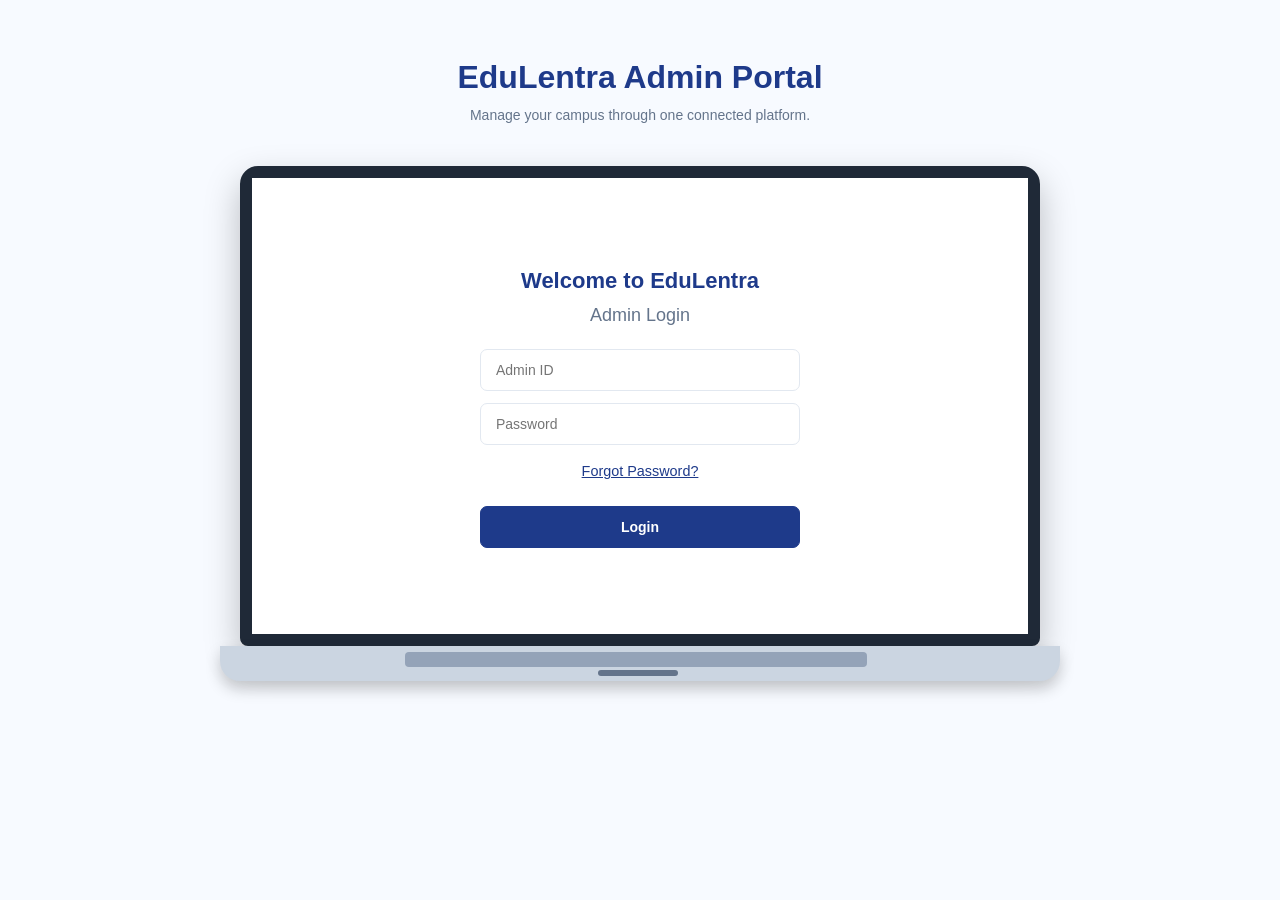
Test case: role-aware announcement flows › lets administrators find and filter students from branches outside the preset list
Type "campus-admin" into the field with placeholder "Admin ID" at [640, 370], box top-left (480, 349), bottom-right (800, 391)
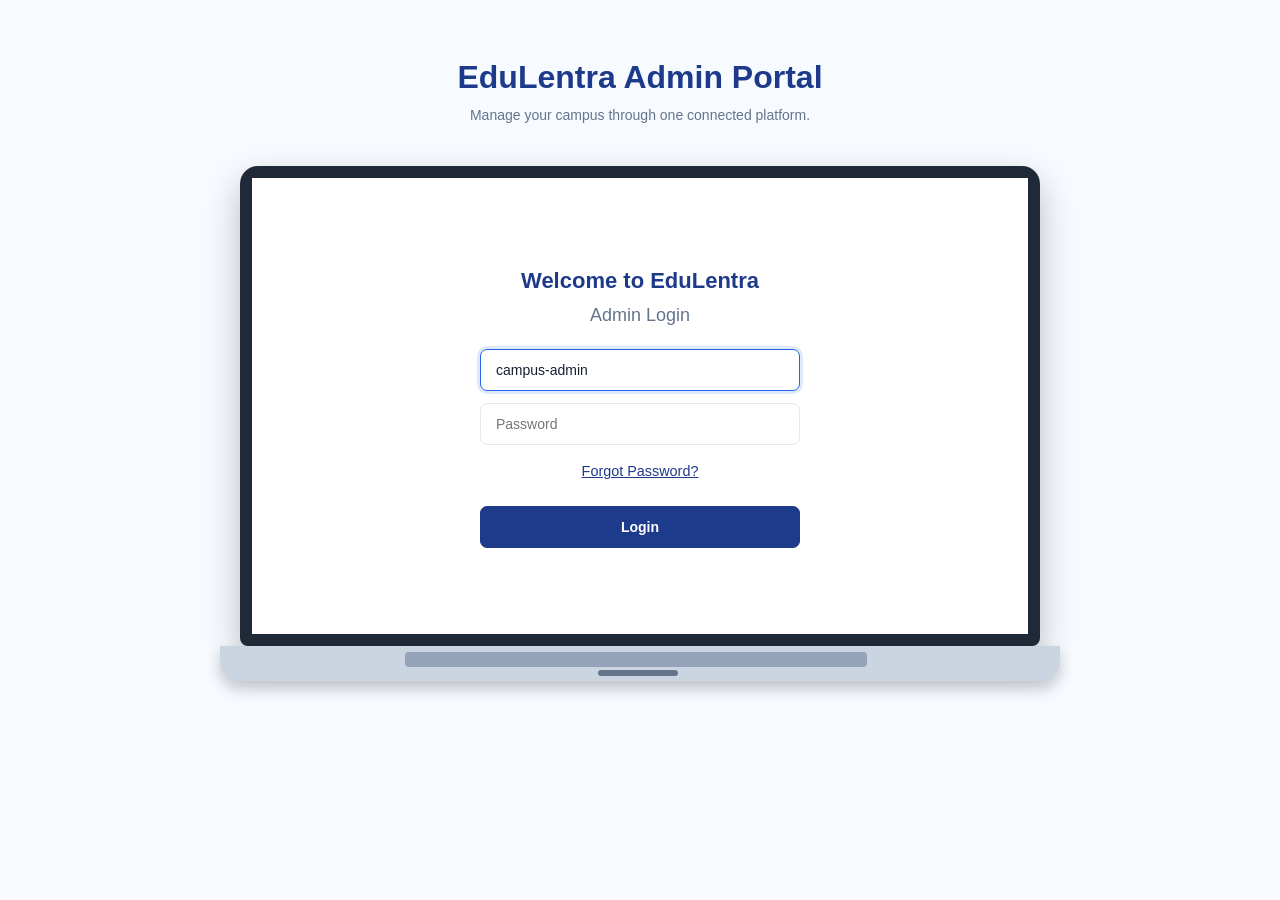
Type "correct-password" into the password field with placeholder "Password" at [640, 424], box top-left (480, 403), bottom-right (800, 445)
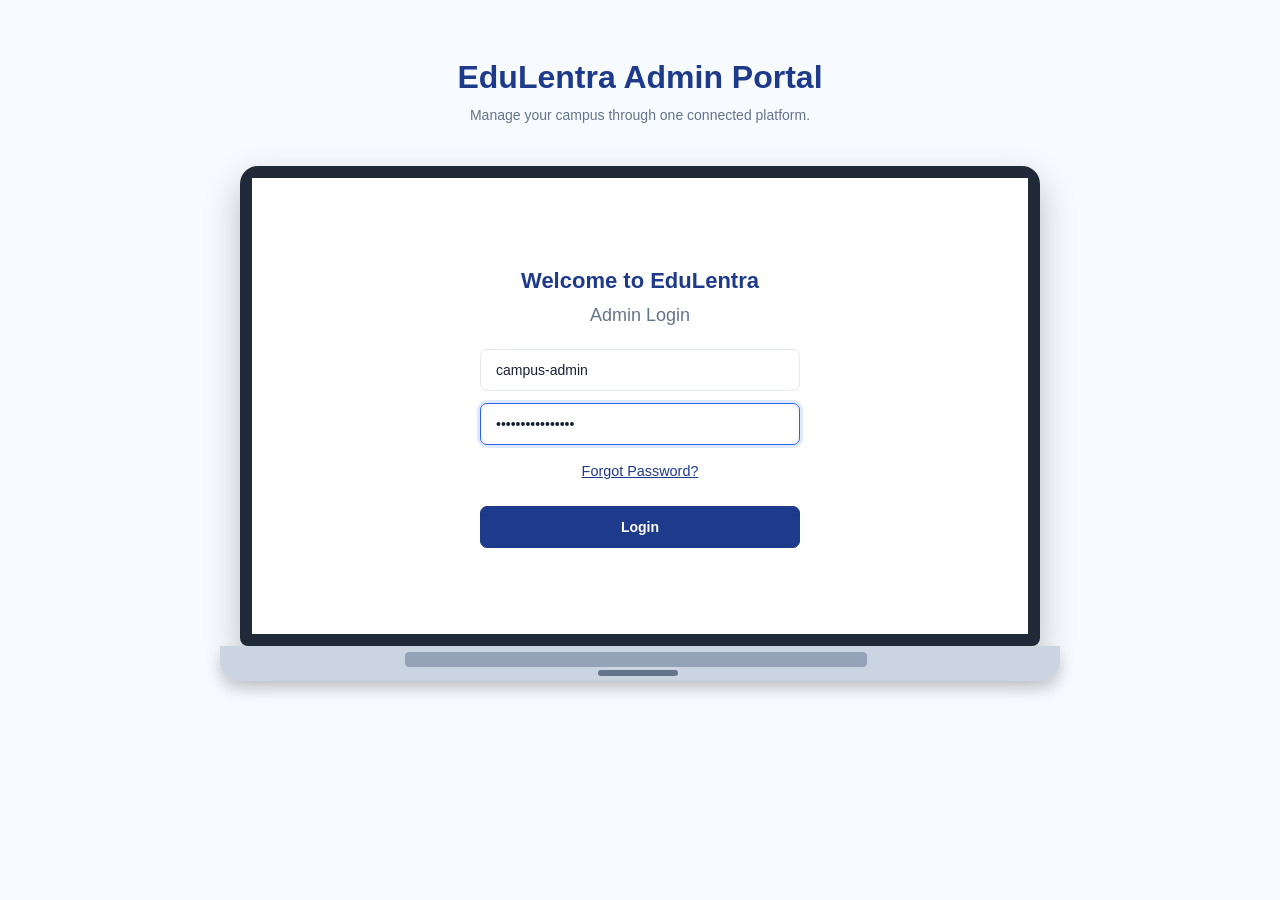
Click the button "Login" at [640, 528], box top-left (480, 506), bottom-right (800, 548)
(page scrolled)
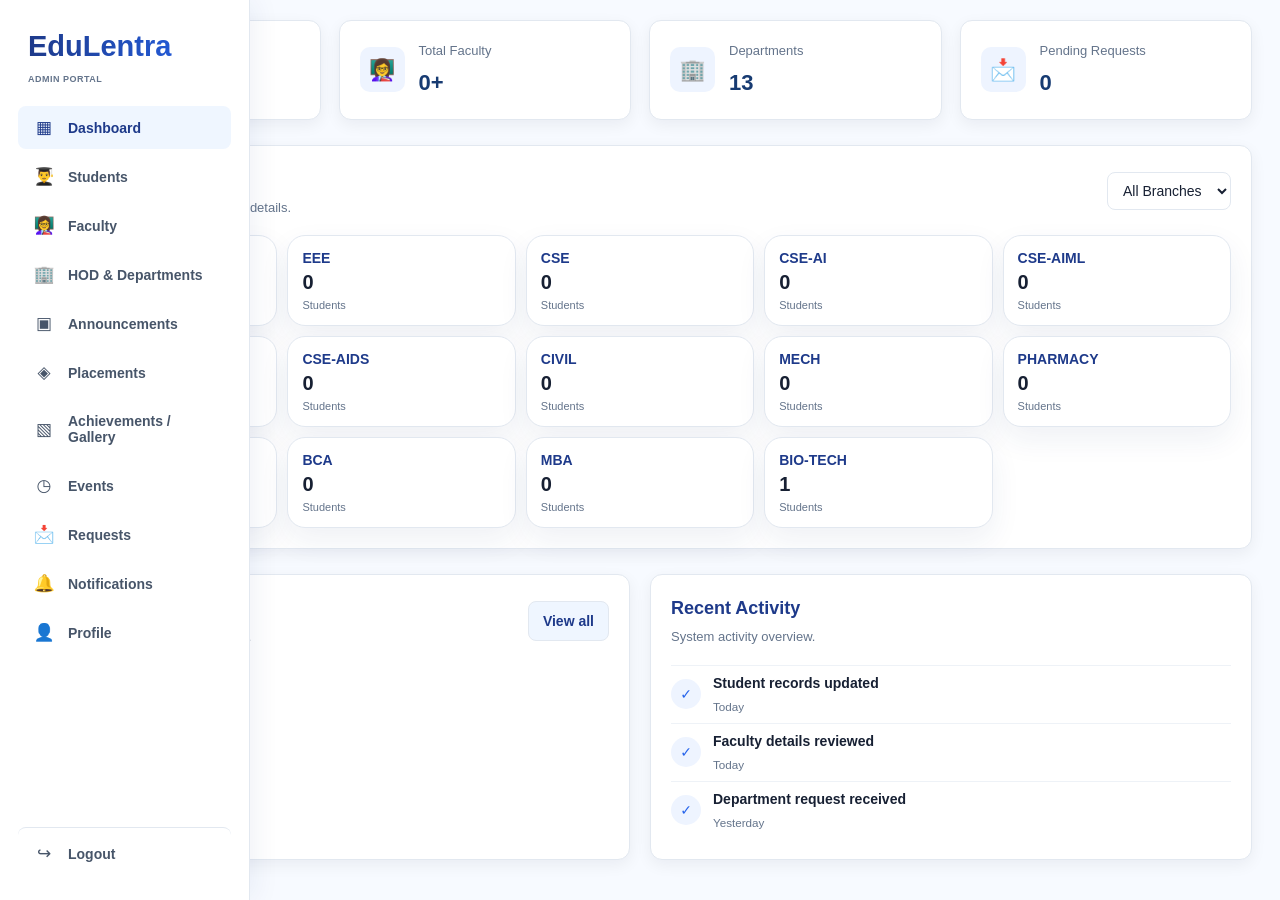
Click the button "BIO-TECH 1 Students" at [878, 482], box top-left (764, 437), bottom-right (993, 528)
(page scrolled)
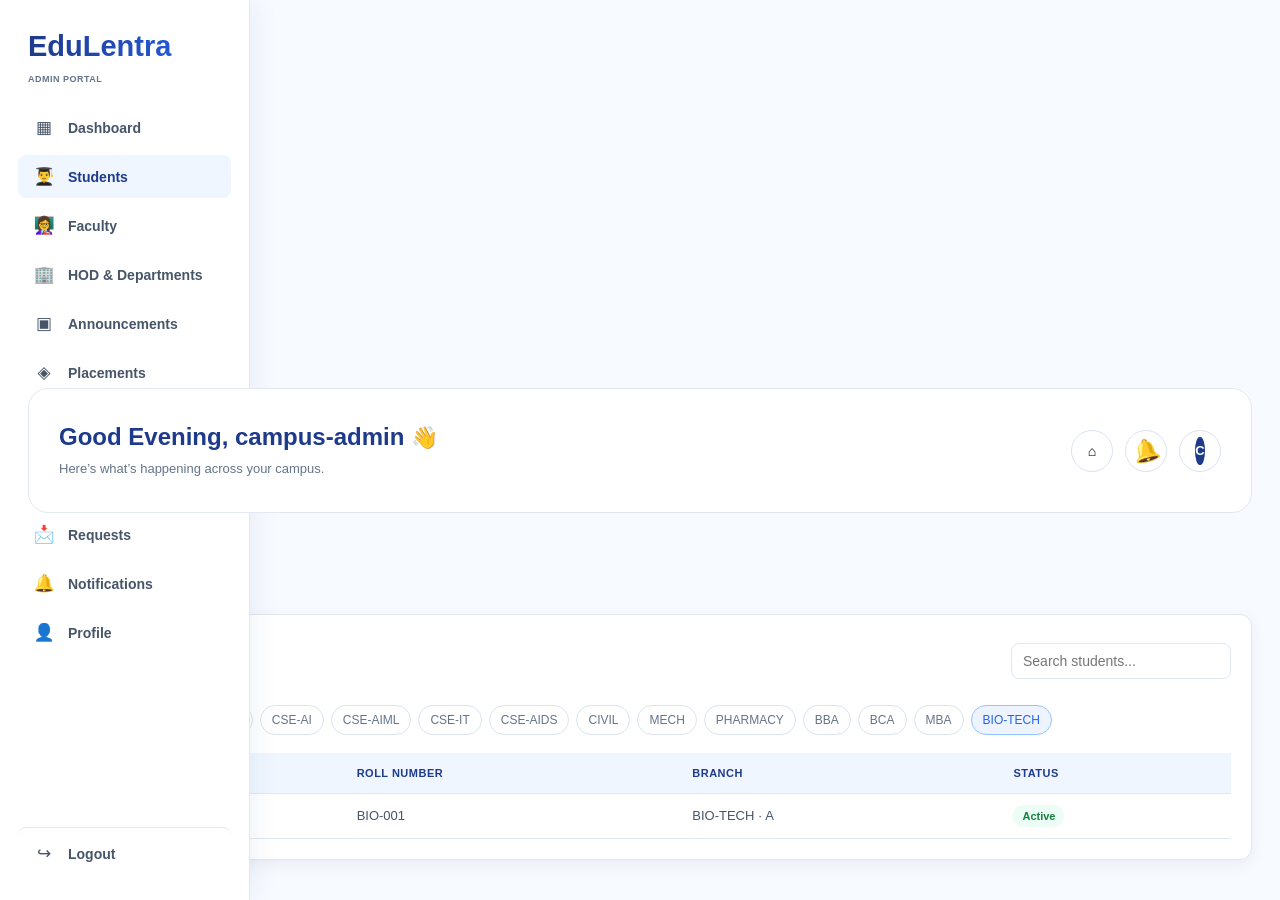
Expected: the text "Kai Student" is shown, top-left (49, 794), bottom-right (343, 838)
Expected: the text "BIO-TECH · A" is shown, top-left (678, 794), bottom-right (1000, 838)
